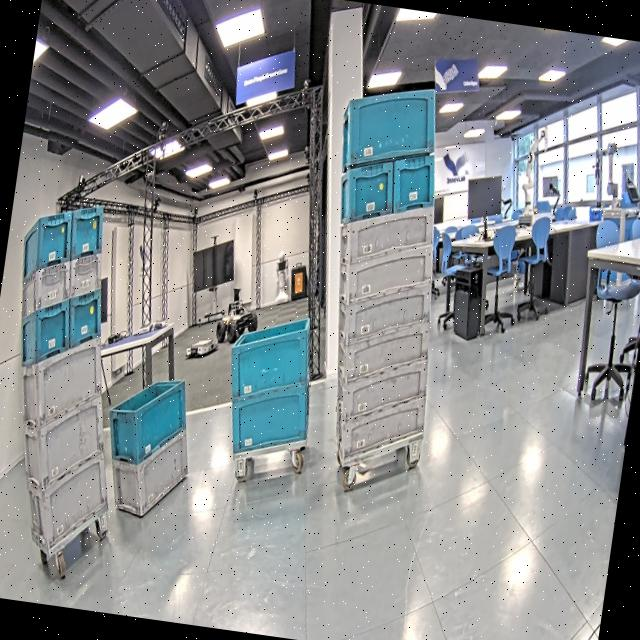Box3G: (320, 379, 430, 470), (332, 232, 438, 318), (330, 348, 435, 434), (334, 192, 438, 278), (330, 310, 434, 394), (332, 272, 436, 354)
Box4G: (15, 382, 112, 498), (11, 324, 110, 436), (20, 440, 114, 556), (103, 419, 195, 525)
Box8G: (16, 256, 74, 322), (64, 256, 102, 304)
BoxB4: (332, 76, 446, 184), (225, 308, 322, 412), (102, 369, 198, 473), (223, 376, 317, 469)
BoxB8: (316, 160, 398, 234), (17, 203, 76, 290), (14, 294, 76, 372), (384, 150, 440, 223), (64, 282, 108, 352), (64, 200, 109, 265)
